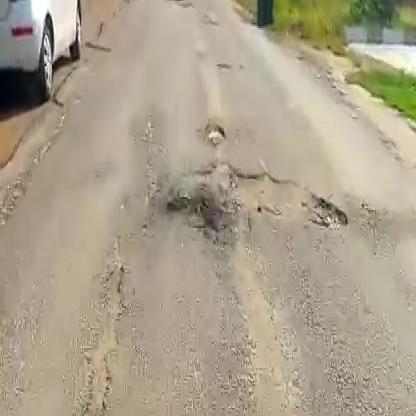pothole: (218, 159, 356, 229), (166, 187, 232, 241), (202, 123, 230, 146)
